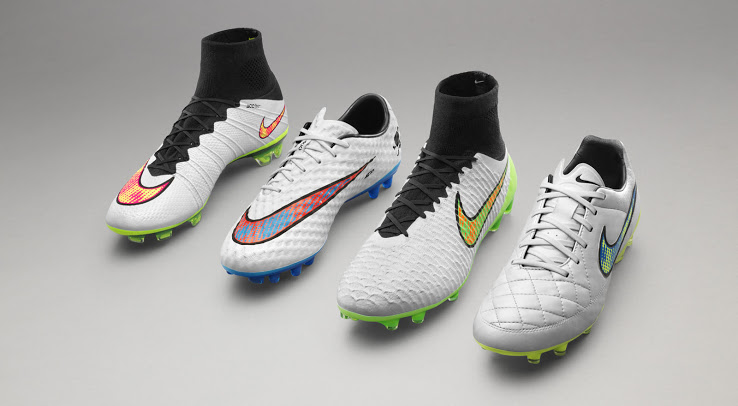nike: (225, 154, 378, 253), (454, 159, 507, 247)
